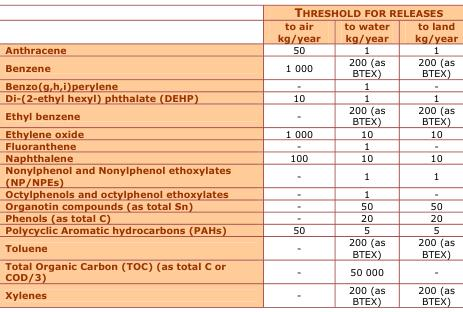table: (4, 4, 457, 306)
table column: (4, 4, 253, 306), (253, 4, 331, 306), (331, 4, 401, 306), (401, 4, 457, 306)
table column header: (4, 4, 457, 42)
table row: (4, 235, 457, 259), (4, 282, 457, 306), (4, 19, 457, 42), (4, 55, 457, 78), (4, 103, 457, 126), (4, 163, 457, 186), (4, 259, 457, 282), (4, 4, 457, 19), (4, 42, 457, 55), (4, 90, 457, 103), (4, 150, 457, 163), (4, 198, 457, 211), (4, 78, 457, 90), (4, 126, 457, 138), (4, 138, 457, 150), (4, 186, 457, 198), (4, 211, 457, 223), (4, 223, 457, 235)
table spanning cell: (253, 4, 457, 19)
